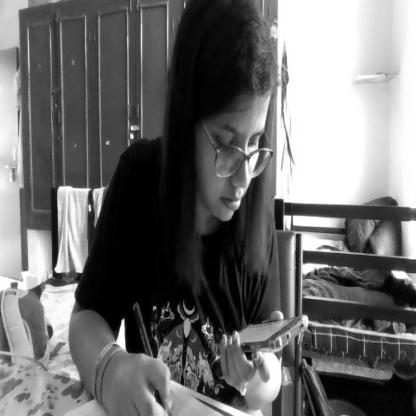Distracted: (189, 59, 273, 223)
